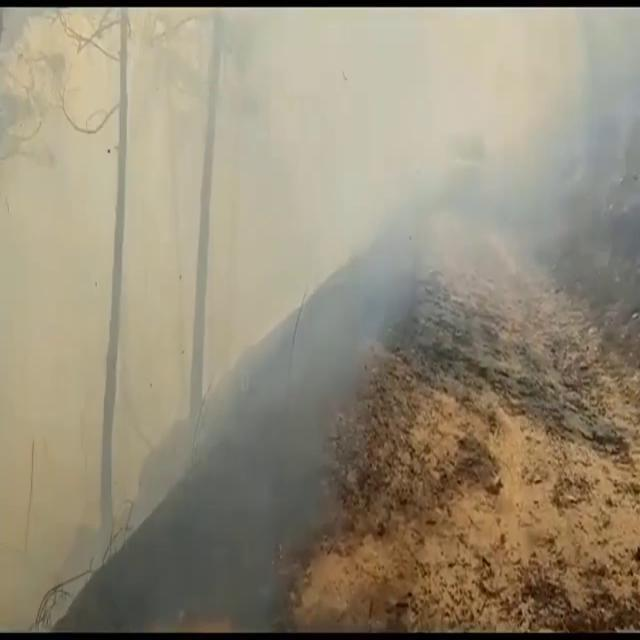Fire: (0, 15, 114, 624)
Smoke: (92, 0, 580, 294), (124, 170, 316, 510)
